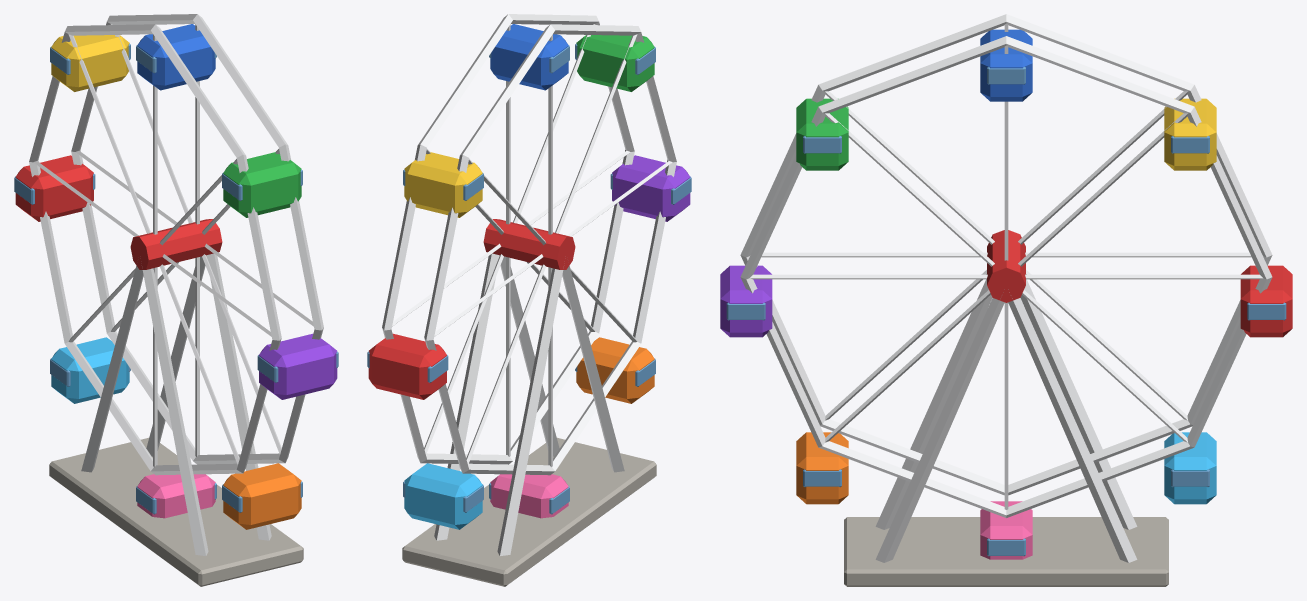
Rendered from FerrisWheel.fbx.
3 views of the same model, side by side, from view 1: azimuth 30°, elevation 25°; view 2: azimuth 150°, elevation 25°; view 3: azimuth 270°, elevation 25° (orthographic). The views are drawn at different scales.
Visible parts, largest first — view 1: FerrisWheel_Wheel, FerrisWheel; view 2: FerrisWheel_Wheel, FerrisWheel; view 3: FerrisWheel_Wheel, FerrisWheel.
Boxes of the visible parts, box(x1,y1,x2,y2) form: FerrisWheel_Wheel: box(14, 14, 338, 529); FerrisWheel: box(49, 253, 303, 586); FerrisWheel_Wheel: box(367, 14, 691, 529); FerrisWheel: box(402, 253, 656, 586); FerrisWheel_Wheel: box(720, 14, 1292, 559); FerrisWheel: box(844, 279, 1168, 586).
Bounding box in the file's own units: 4 × 18.27 × 17.6.
Materials: 1 (1 with a texture image).
